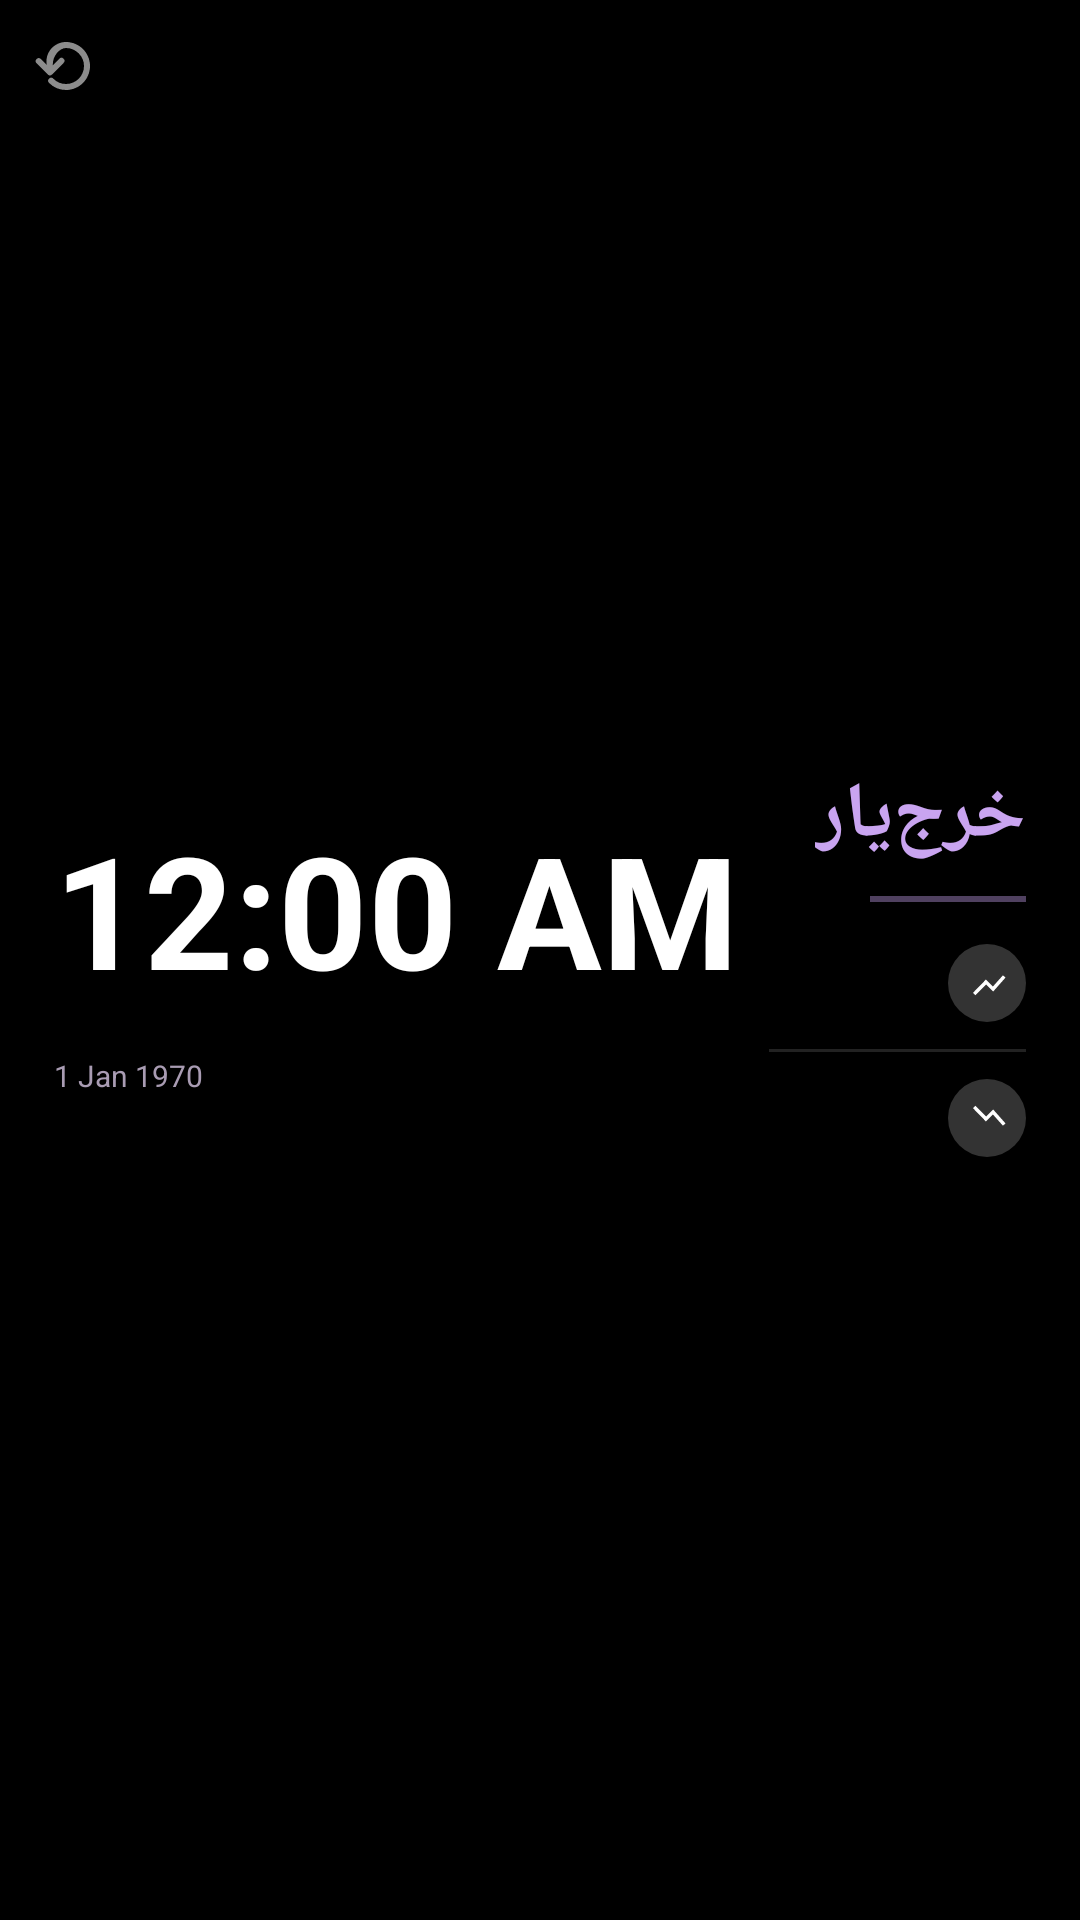

Named icons in this screenshot (1080*1920) and their centers, [x,y]:
down: [989,1116]
بروزرسانی اطلاعات ویجت: [62,66]
